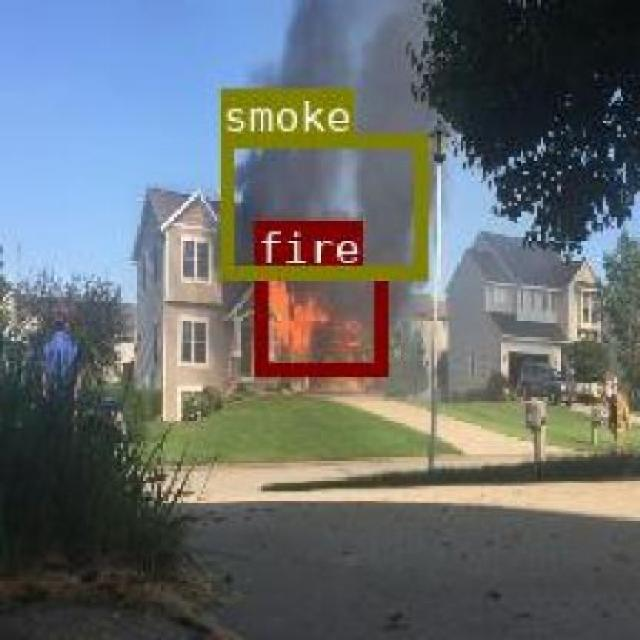Fire: (253, 262, 384, 372)
Smoke: (217, 132, 425, 276)
